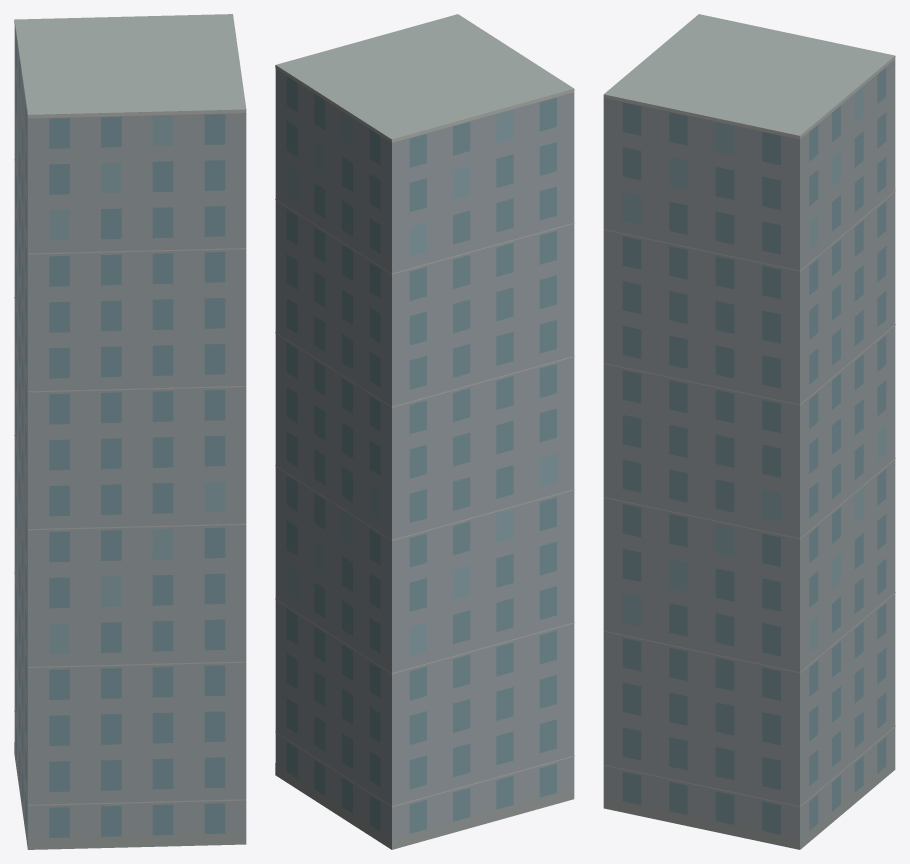
File: residential-f9cd2319-53cb-4982-9018-6a756e7b0b45.glb
The picture shows the model from 3 angles, left to right: view 1: azimuth 30°, elevation 25°; view 2: azimuth 150°, elevation 25°; view 3: azimuth 270°, elevation 25°; orthographic projection. The views are drawn at different scales.
Visible parts, largest first — view 1: residential-f9cd2319-53cb-4982-9018-6a756e7b0b45.tmp; view 2: residential-f9cd2319-53cb-4982-9018-6a756e7b0b45.tmp; view 3: residential-f9cd2319-53cb-4982-9018-6a756e7b0b45.tmp.
Part boxes in pixels (<box>): residential-f9cd2319-53cb-4982-9018-6a756e7b0b45.tmp: <box>14,14,246,849</box>; residential-f9cd2319-53cb-4982-9018-6a756e7b0b45.tmp: <box>275,14,574,849</box>; residential-f9cd2319-53cb-4982-9018-6a756e7b0b45.tmp: <box>603,14,895,849</box>.
Size of the model in its own units: 18.33 by 50 by 18.54.
